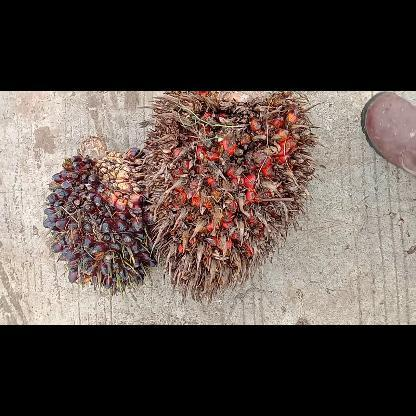TBS mentah: (43, 137, 158, 296)
Terlalu masak: (138, 90, 318, 300)
